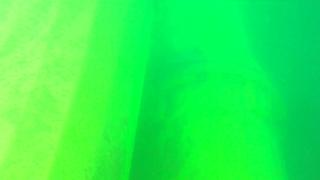pipe: (1, 1, 154, 179), (138, 1, 289, 179)
